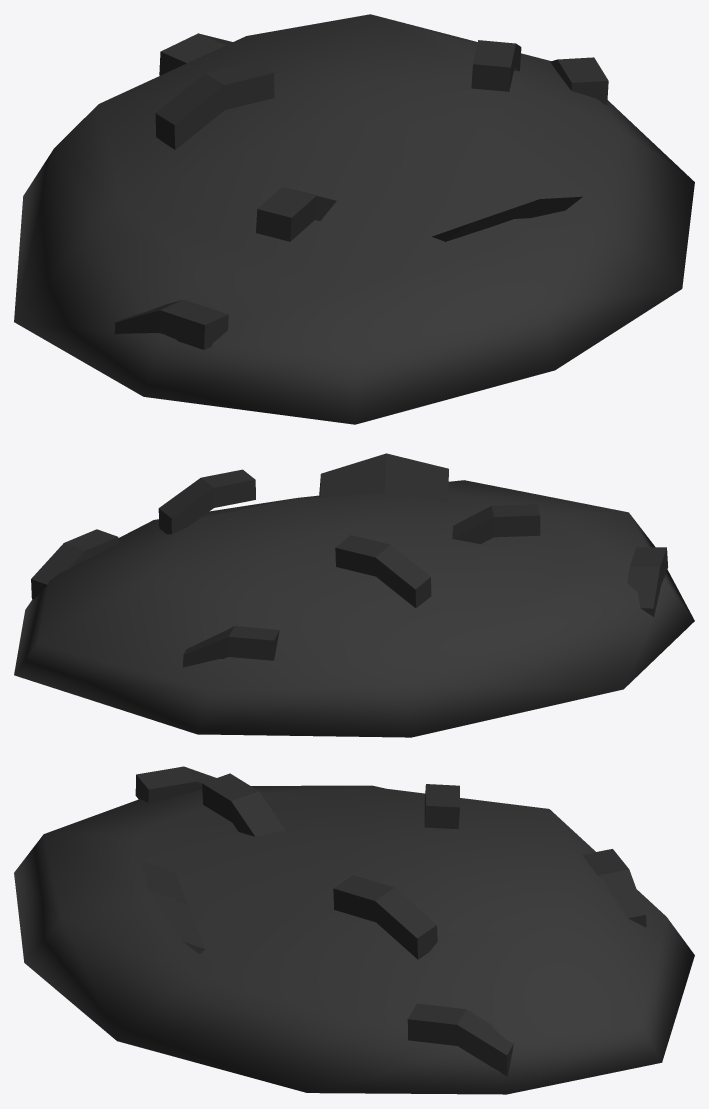
The model's file is ash.fbx.
The picture shows the model from 3 angles, top to bottom: view 1: azimuth 30°, elevation 25°; view 2: azimuth 150°, elevation 25°; view 3: azimuth 270°, elevation 25°; orthographic projection. The views are drawn at different scales.
Visible parts, largest first — view 1: Circle; view 2: Circle; view 3: Circle.
Boxes of the visible parts, <box> form: Circle: <box>14,14,694,424</box>; Circle: <box>14,453,694,737</box>; Circle: <box>14,766,694,1094</box>.
Bounding box in the file's own units: 0.3874 × 0.0829 × 0.3876.
